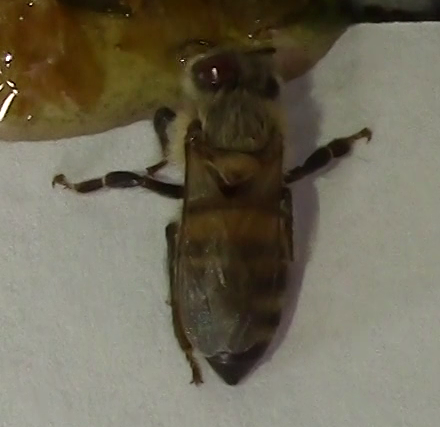Varroa destructor: (190, 50, 246, 93)
